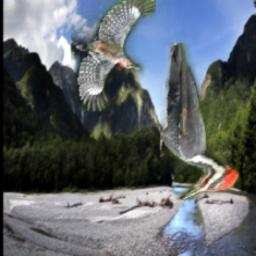Woodpecker: (160, 43, 239, 200), (71, 0, 156, 111)
